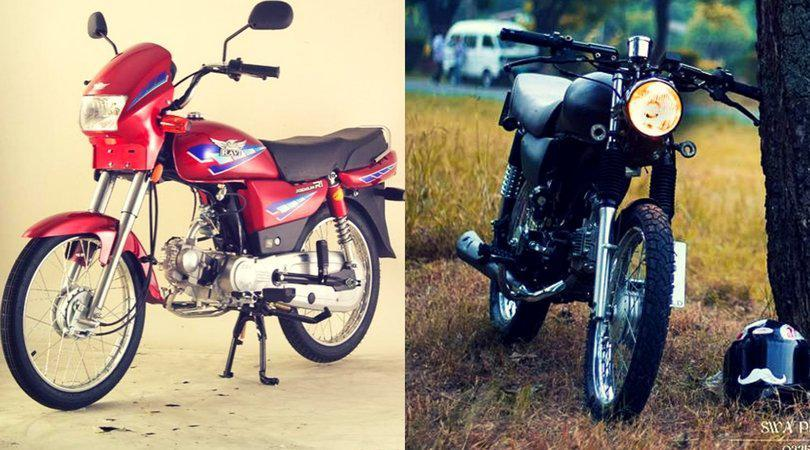bike: (1, 1, 404, 412), (456, 24, 758, 427)
